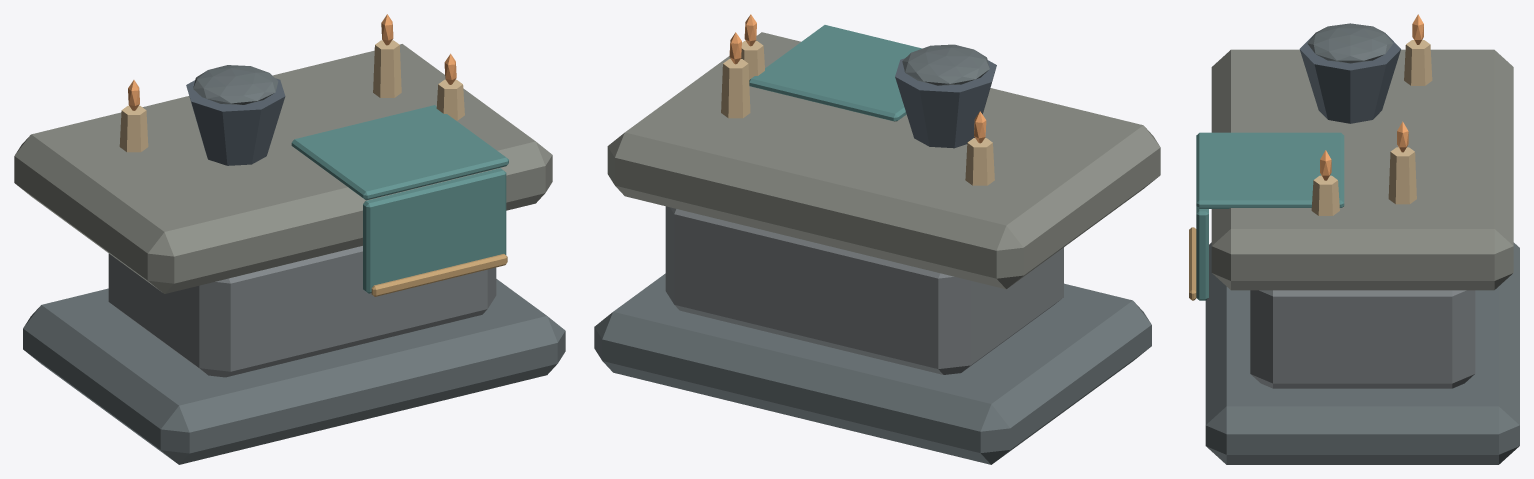
The model's file is VigilAltar.fbx.
3 views of the same model, side by side, from view 1: azimuth 30°, elevation 25°; view 2: azimuth 150°, elevation 25°; view 3: azimuth 270°, elevation 25° (orthographic). The views are drawn at different scales.
Visible parts, largest first — view 1: Path, Slate, Stone, Mantle, Iron, Bone, Brass, Ember; view 2: Path, Slate, Stone, Mantle, Iron, Bone, Ember; view 3: Path, Slate, Stone, Mantle, Iron, Bone, Ember, Brass.
Boxes of the visible parts, left/top/right/bottom form: Path: left=14, top=44, right=552, bottom=293; Slate: left=23, top=65, right=565, bottom=464; Stone: left=108, top=246, right=496, bottom=377; Mantle: left=291, top=105, right=508, bottom=293; Iron: left=186, top=78, right=285, bottom=165; Bone: left=119, top=40, right=464, bottom=152; Brass: left=371, top=254, right=507, bottom=296; Ember: left=128, top=14, right=456, bottom=110; Path: left=607, top=32, right=1160, bottom=289; Slate: left=594, top=44, right=1151, bottom=464; Stone: left=665, top=206, right=1063, bottom=374; Mantle: left=749, top=25, right=921, bottom=121; Iron: left=895, top=58, right=996, bottom=148; Bone: left=721, top=41, right=994, bottom=185; Ember: left=729, top=14, right=986, bottom=143; Path: left=1211, top=49, right=1513, bottom=290; Slate: left=1205, top=23, right=1519, bottom=464; Stone: left=1250, top=290, right=1475, bottom=388; Mantle: left=1196, top=132, right=1344, bottom=300; Iron: left=1299, top=34, right=1400, bottom=123; Bone: left=1311, top=40, right=1432, bottom=215; Ember: left=1320, top=14, right=1423, bottom=180; Brass: left=1189, top=227, right=1196, bottom=300.
Bounding box in the file's own units: 1.54 × 1.11 × 1.07.
